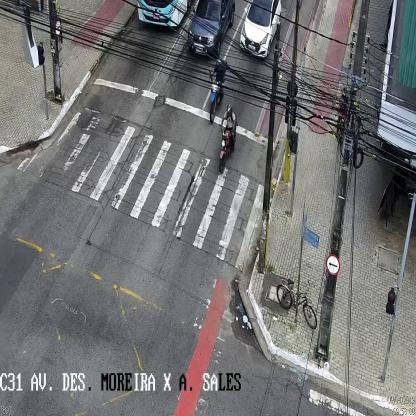bicycle: (276, 277, 317, 330)
bus: (137, 0, 191, 29)
car: (188, 2, 234, 55), (240, 2, 282, 58)
motorbike: (218, 102, 236, 174), (209, 56, 227, 121)
